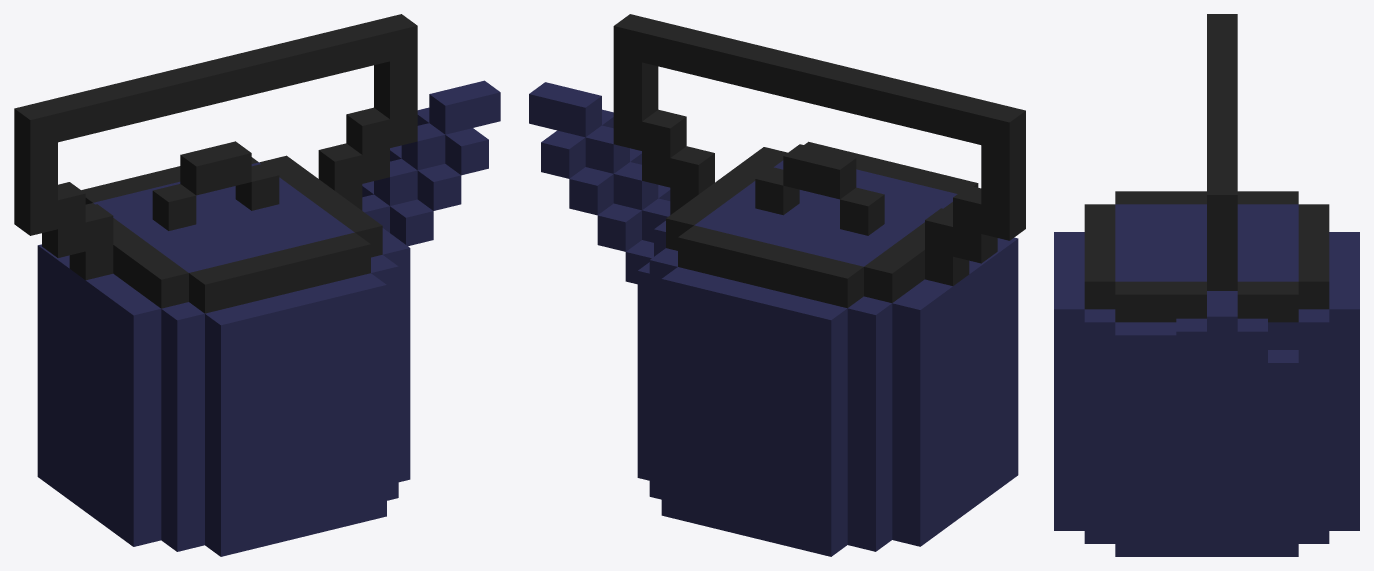
Rendered from teapod.obj.
The picture shows the model from 3 angles, left to right: view 1: azimuth 30°, elevation 25°; view 2: azimuth 150°, elevation 25°; view 3: azimuth 270°, elevation 25°; orthographic projection. The views are drawn at different scales.
Size of the model in its own units: 1.7 by 1.4 by 1.
1 material, 1 textured.
